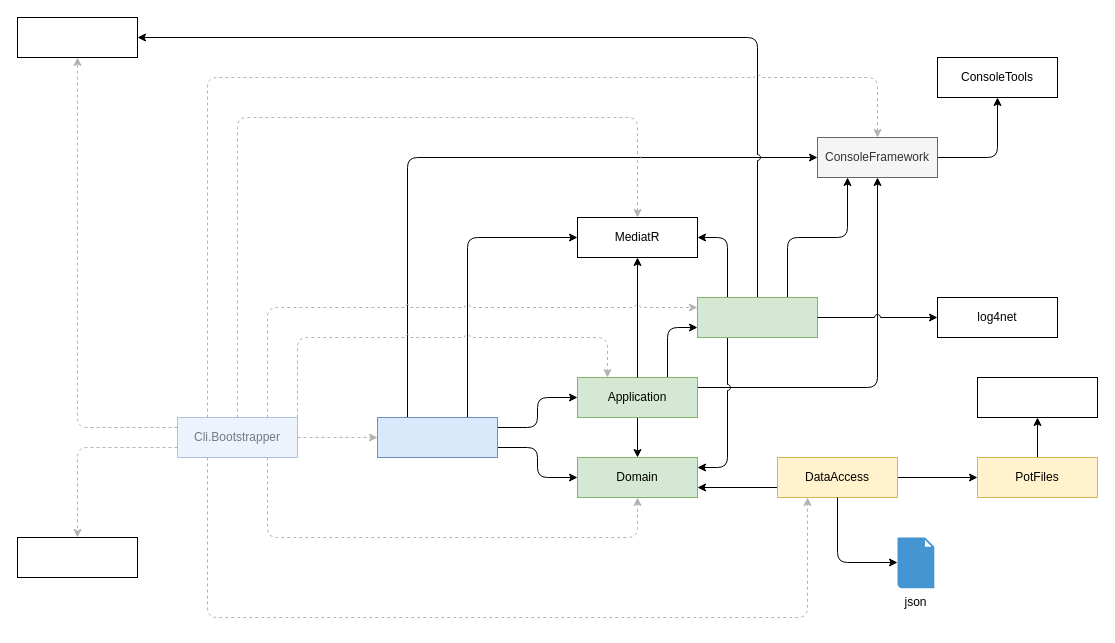
The diagram is 1115 pixels wide and 643 high, and some of its shapes have lost their labels. Each missing label, with the box of its shape:
Cli.Presentation: (376, 416, 498, 458)
FluentValidation: (16, 16, 138, 58)
Infrastructure: (696, 296, 818, 338)
Newtonsoft.Json: (976, 376, 1098, 418)
Ninject: (16, 536, 138, 578)
